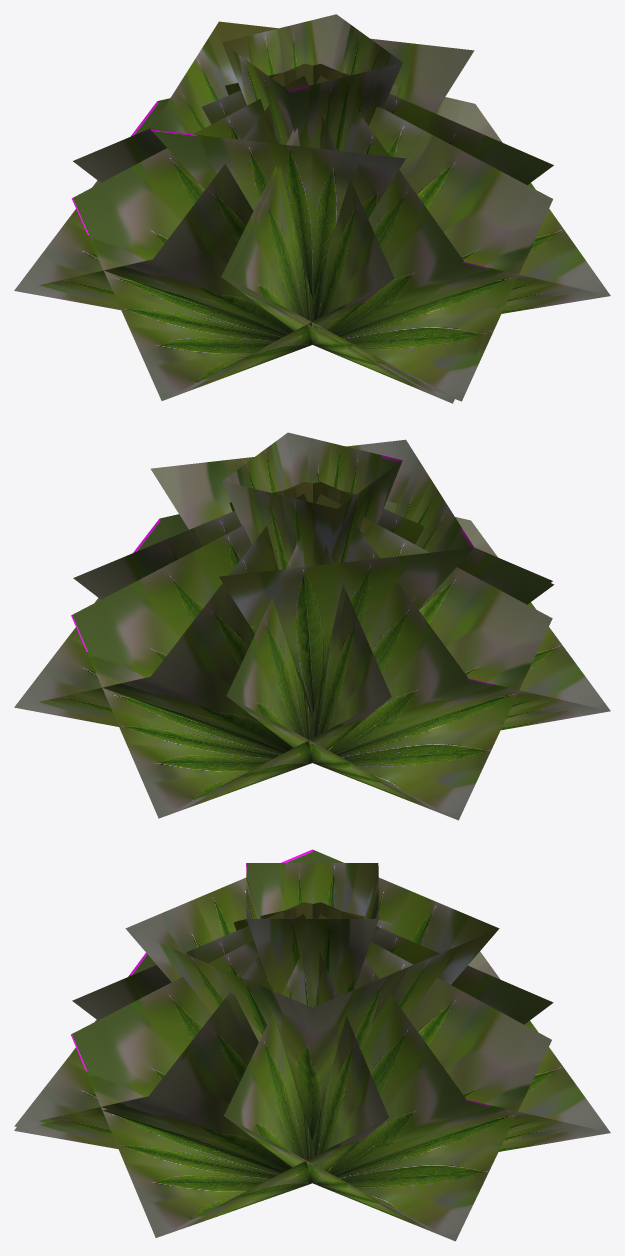
Rendered from spikes.obj.
3 views of the same model, one above another, from view 1: azimuth 30°, elevation 25°; view 2: azimuth 150°, elevation 25°; view 3: azimuth 270°, elevation 25° (orthographic).
Parts seen in each view (by area): view 1: Spikes; view 2: Spikes; view 3: Spikes.
Boxes of the visible parts, x1,y1,x2,y2 form: Spikes: (14, 14, 610, 403); Spikes: (14, 432, 610, 820); Spikes: (14, 849, 610, 1241).
Bounding box in the file's own units: 62.9 × 38.92 × 72.03.
Materials: 1 (1 with a texture image).
